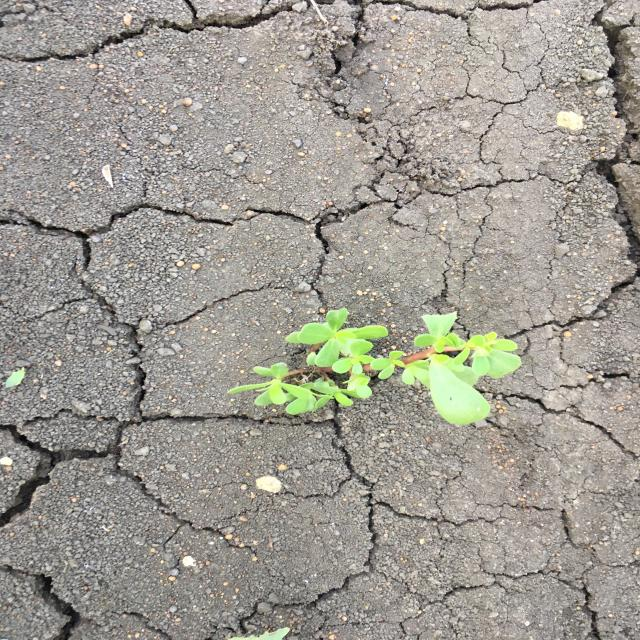Purslane: (225, 305, 527, 429)
